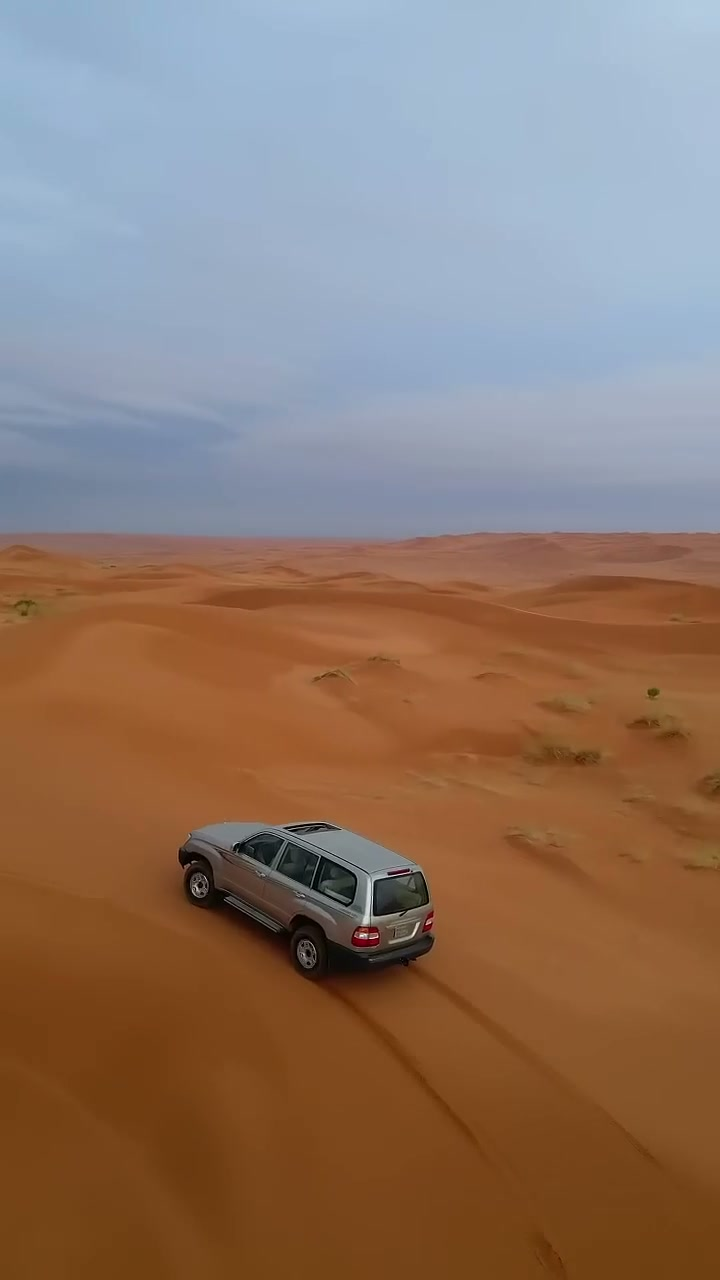vehicle_track: (412, 971, 661, 1166), (326, 983, 523, 1201)
